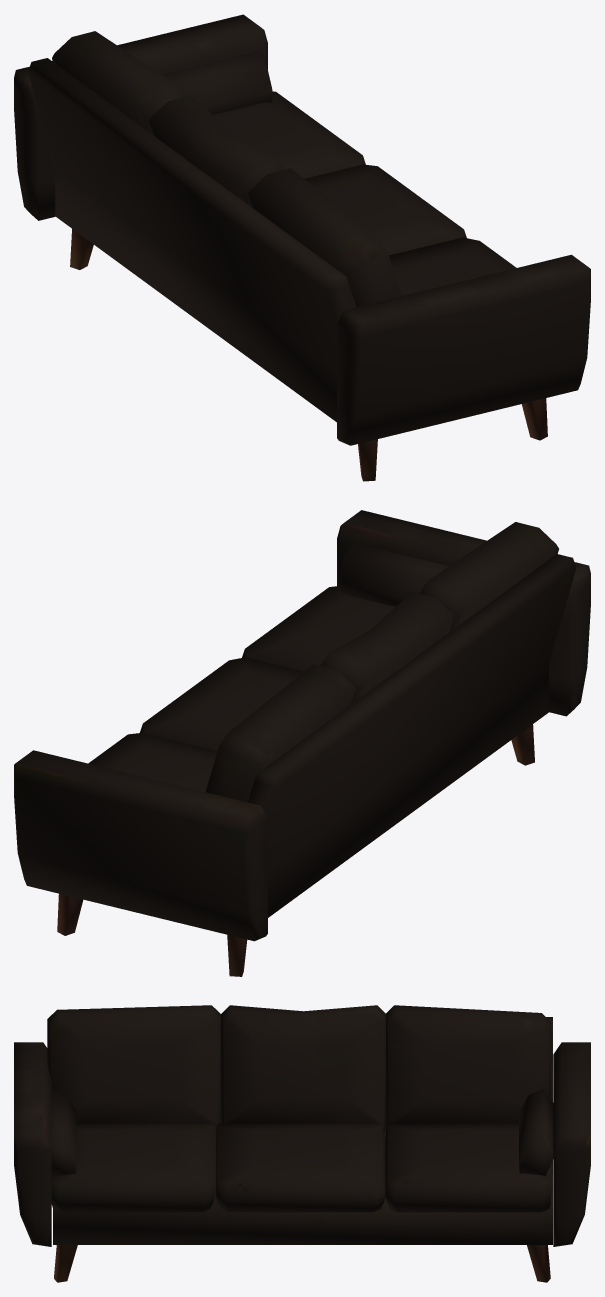
The model's file is sofa.gltf.
3 renders of one model, top to bottom at view 1: azimuth 30°, elevation 25°; view 2: azimuth 150°, elevation 25°; view 3: azimuth 270°, elevation 25°, orthographic. The views are drawn at different scales.
Parts seen in each view (by area): view 1: sofa_Material.002_0; view 2: sofa_Material.002_0; view 3: sofa_Material.002_0.
Part boxes in pixels (x1,y1,x2,y2): sofa_Material.002_0: (14, 14, 590, 481); sofa_Material.002_0: (14, 510, 590, 976); sofa_Material.002_0: (14, 1005, 590, 1282).
Bounding box in the file's own units: 0.8465 × 0.7999 × 2.06.
1 material, 1 textured.
